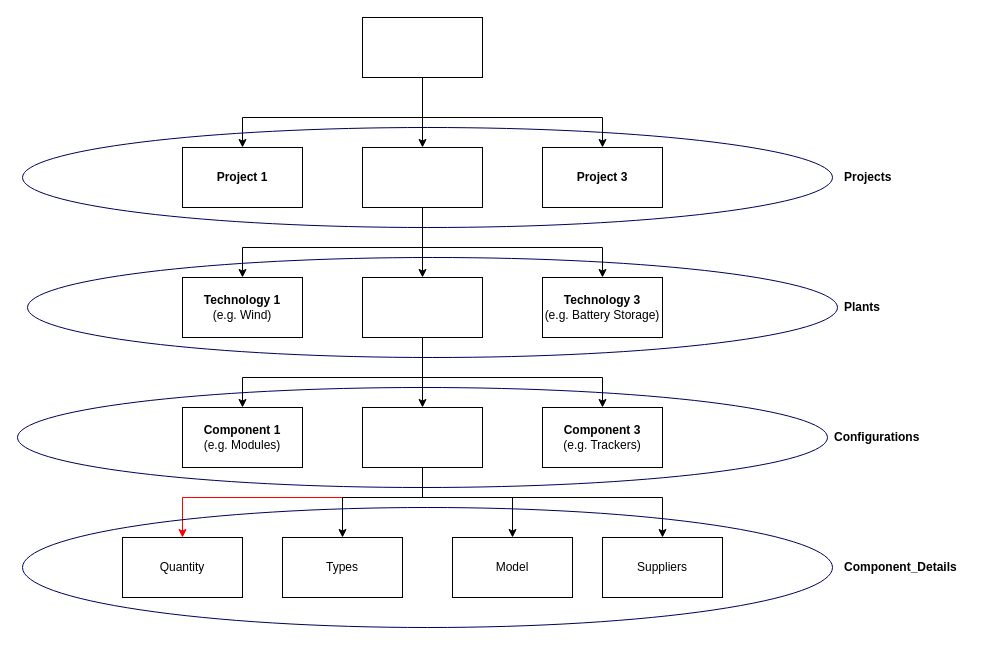
Some shapes in this 990 by 645 pixel diagram are drawn without their labels. The shapes that lost their labels are listed below. From the top down, each one's centre as x and y in pixels, then its label:
point (422, 47): Portfolio
point (422, 177): Project 2
point (422, 307): Technology 2 (e.g. Solar PV)
point (422, 437): Component 2 (e.g. Inverter)
